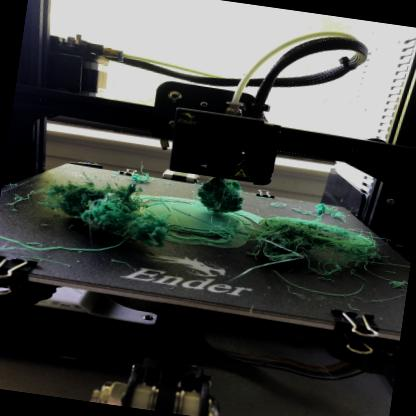fail: (250, 214, 380, 286)
